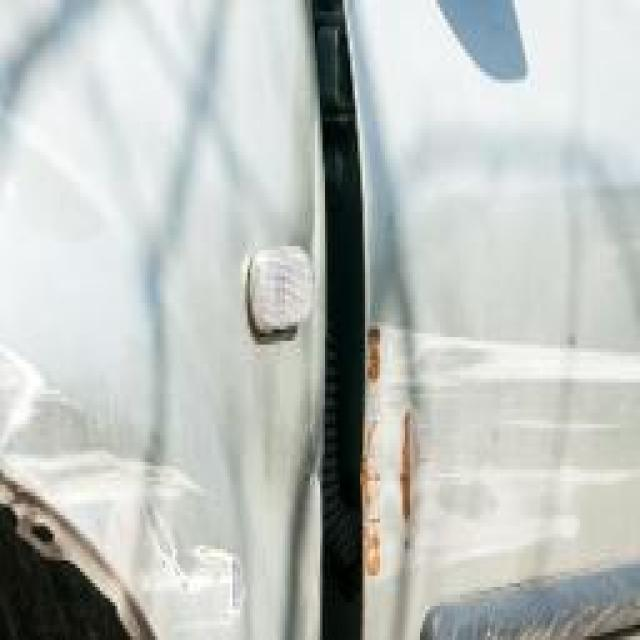Door: (355, 307, 640, 625)
Fender: (2, 303, 258, 640)
